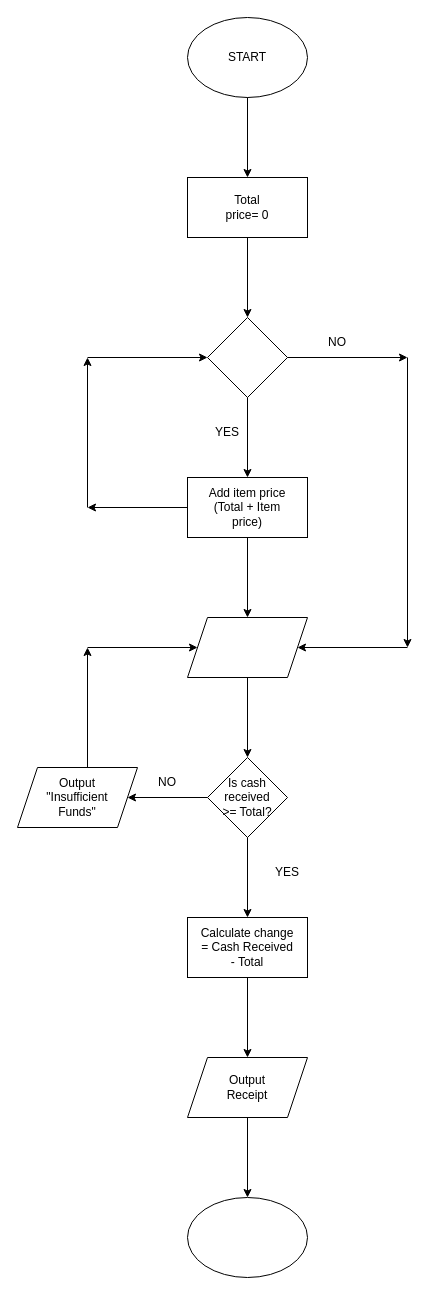
Some shapes in this 433 by 1295 pixel diagram are drawn without their labels. Each missing label, with the centre of its shape:
"Input Cash Received" belongs at point (247, 647).
"More items?" belongs at point (247, 357).
"STOP" belongs at point (247, 1237).
